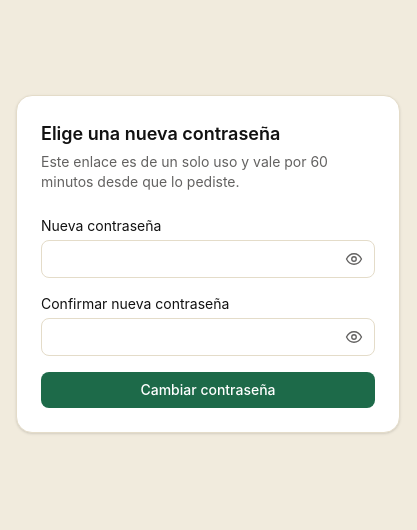
Scenario: RestablecerPasswordView › resets the password and shows the confirmation screen
Type "NuevaClave#2026Segura" into the password field labelled "Nueva contraseña" at (208, 259), box x1=41 y1=240 x2=375 y2=278
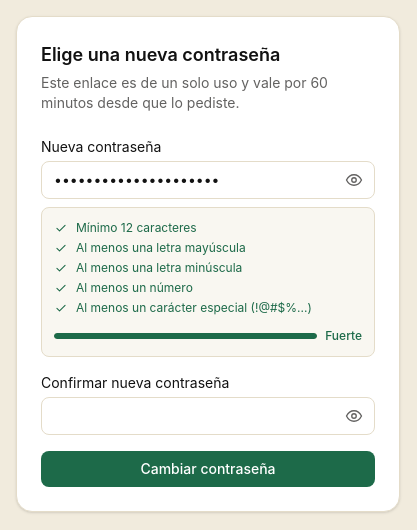
Type "NuevaClave#2026Segura" into the password field labelled "Confirmar nueva contraseña" at (208, 416), box x1=41 y1=397 x2=375 y2=435
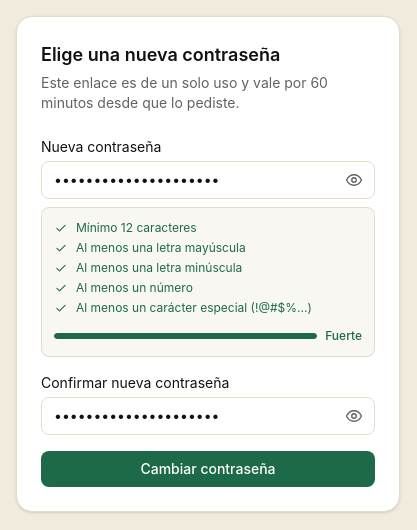
Submit the form, box x1=41 y1=137 x2=375 y2=487
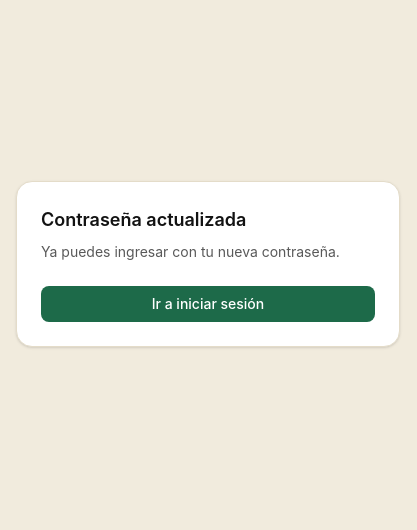
Check: the text "Contraseña actualizada" is shown, box x1=41 y1=209 x2=246 y2=230
